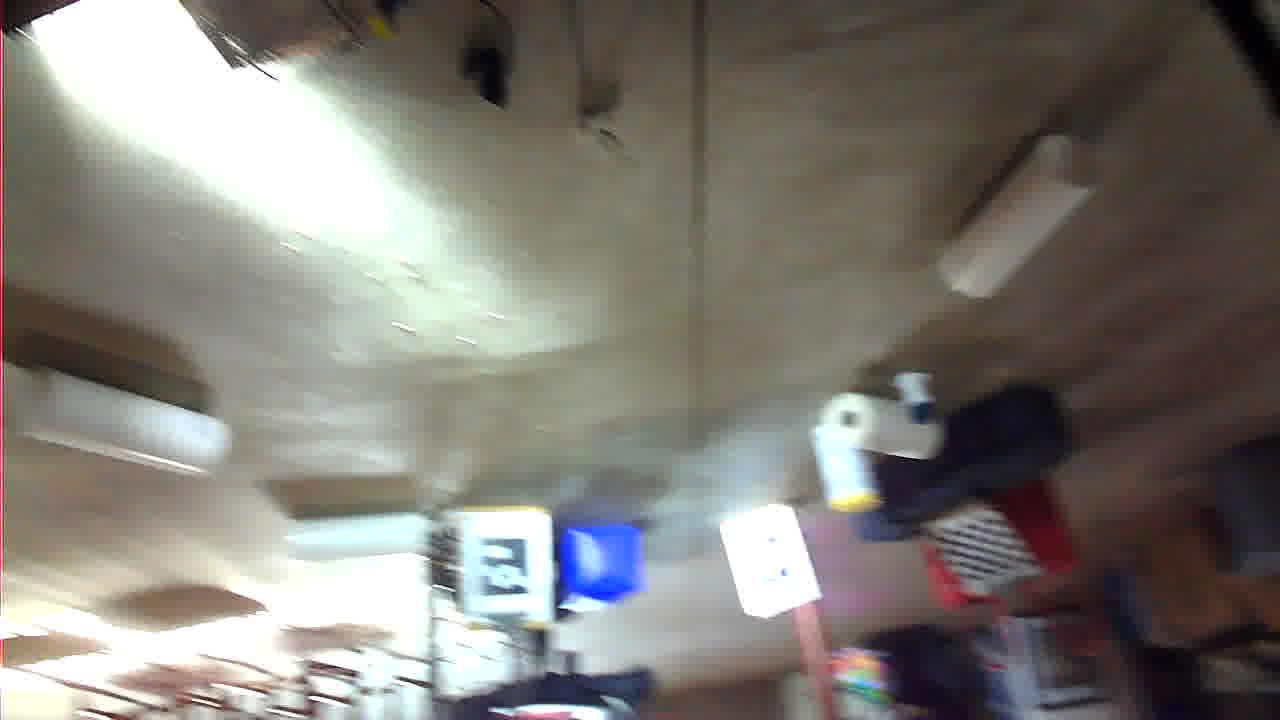coral: (188, 422, 336, 581), (1051, 246, 1259, 353), (852, 162, 991, 205)
